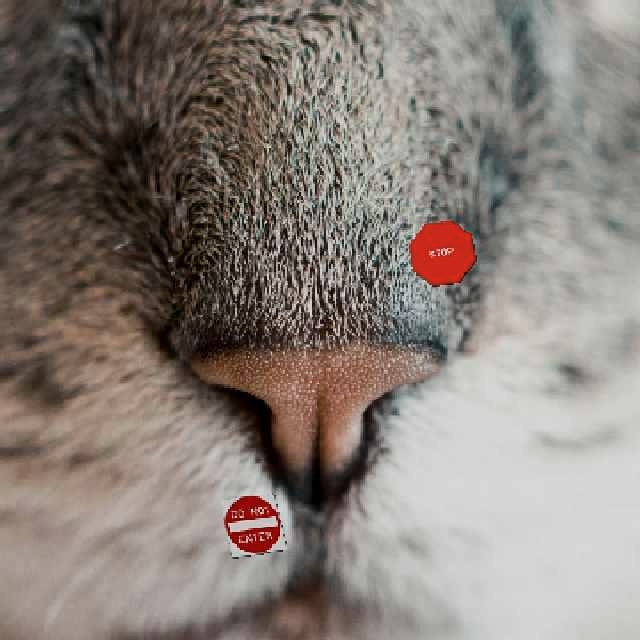DO_NOT_ENTER: (218, 491, 286, 557)
STOP: (407, 218, 475, 285)
